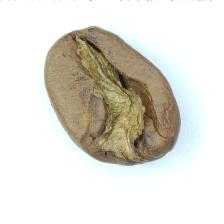NG: (64, 35, 158, 156)
